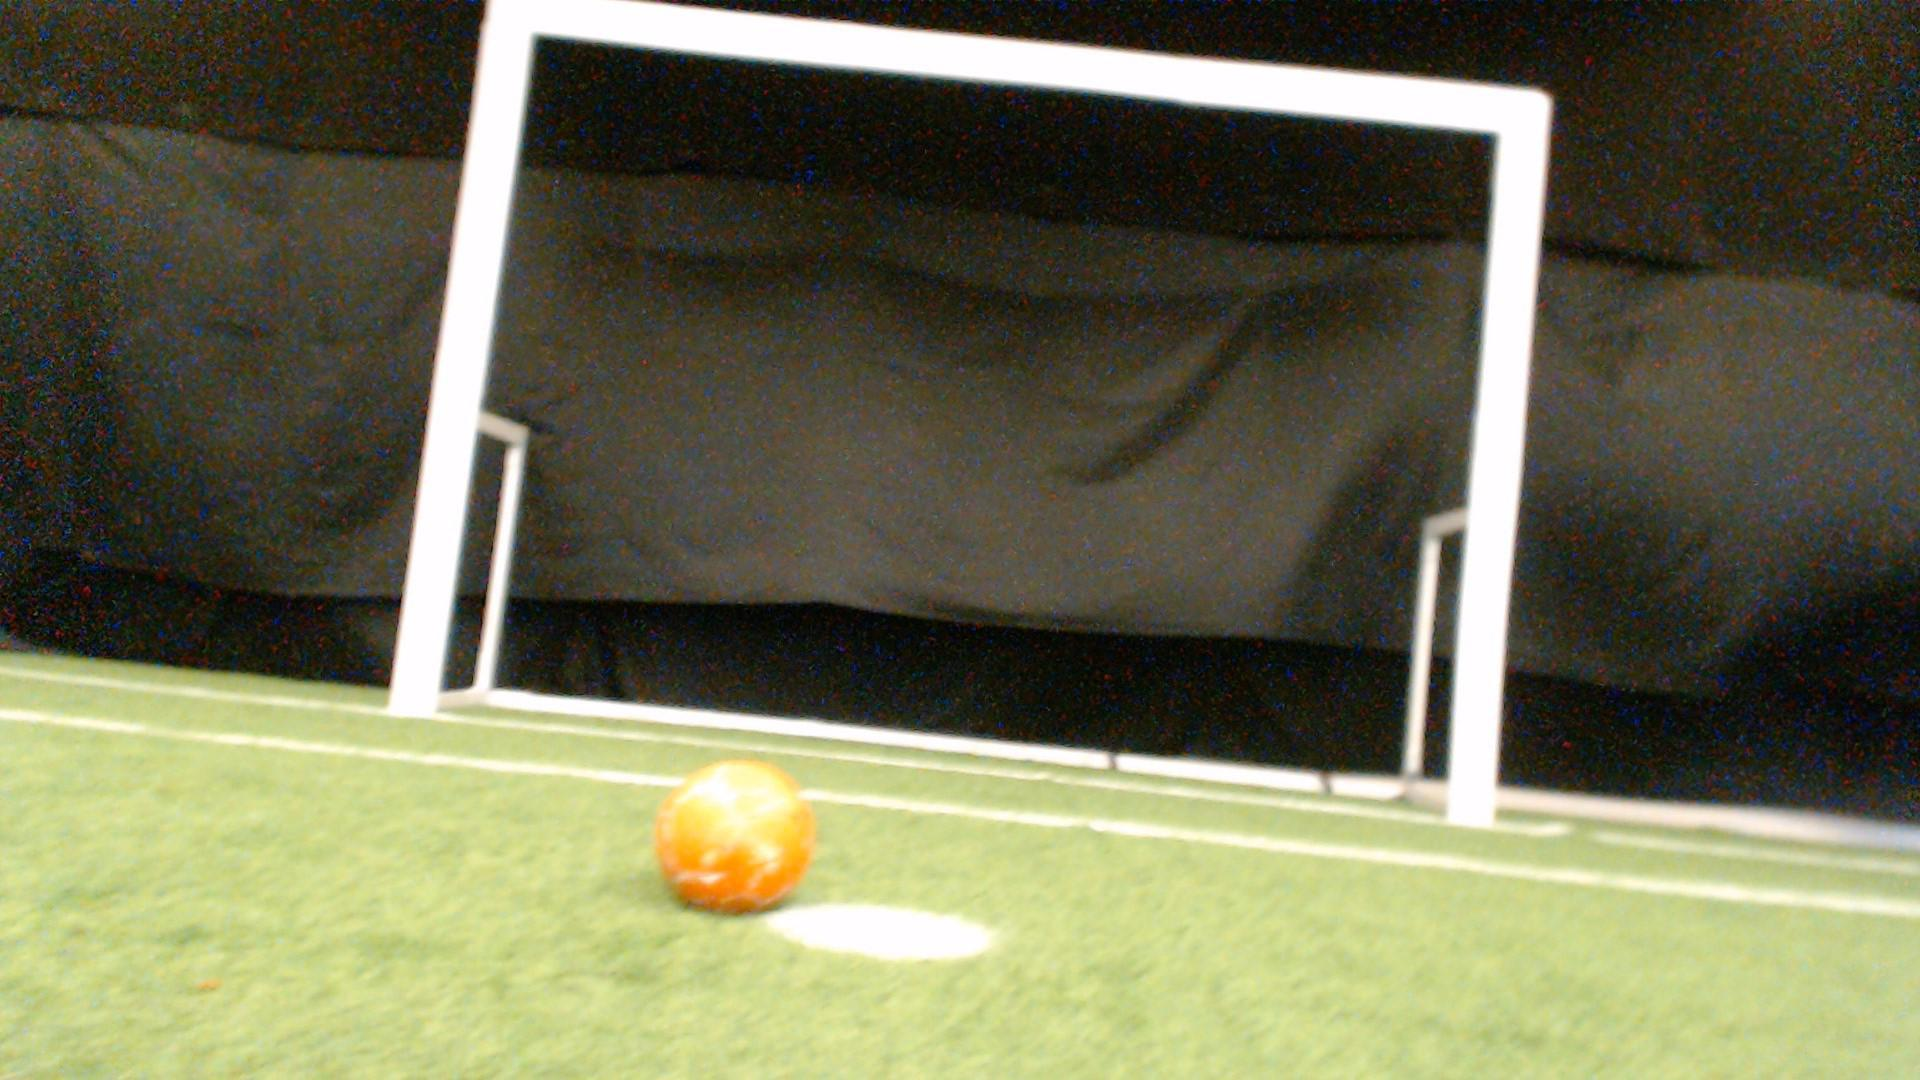bola: (640, 737, 836, 923)
